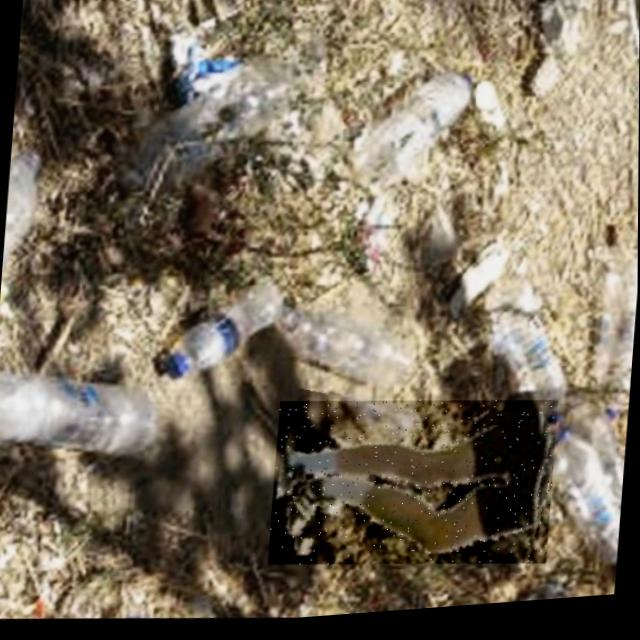Person in Rubble: (267, 387, 558, 587)
